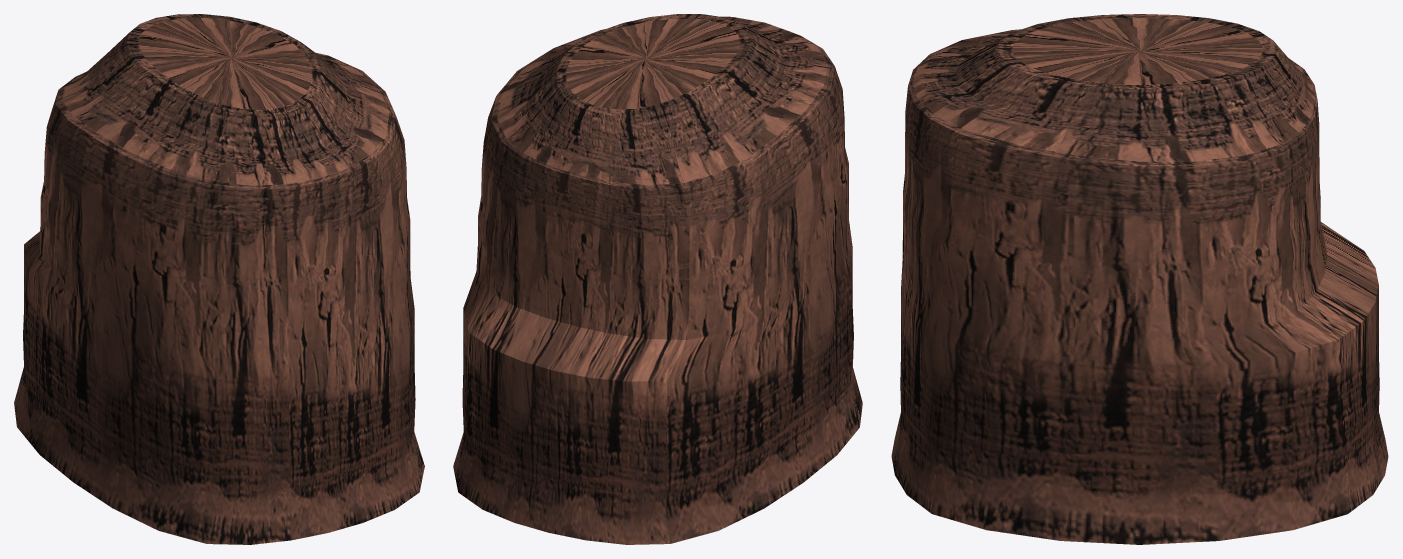
Rendered from object_65_lev2.glb.
3 views of the same model, side by side, from view 1: azimuth 30°, elevation 25°; view 2: azimuth 150°, elevation 25°; view 3: azimuth 270°, elevation 25° (orthographic). The views are drawn at different scales.
Visible parts, largest first — view 1: object_65_lev2; view 2: object_65_lev2; view 3: object_65_lev2.
Boxes of the visible parts, x1=… form: object_65_lev2: x1=14, y1=14, x2=424, y2=544; object_65_lev2: x1=453, y1=14, x2=862, y2=544; object_65_lev2: x1=891, y1=14, x2=1388, y2=544.
Bounding box in the file's own units: 6.89 × 8.24 × 8.95.
1 material, 1 textured.
